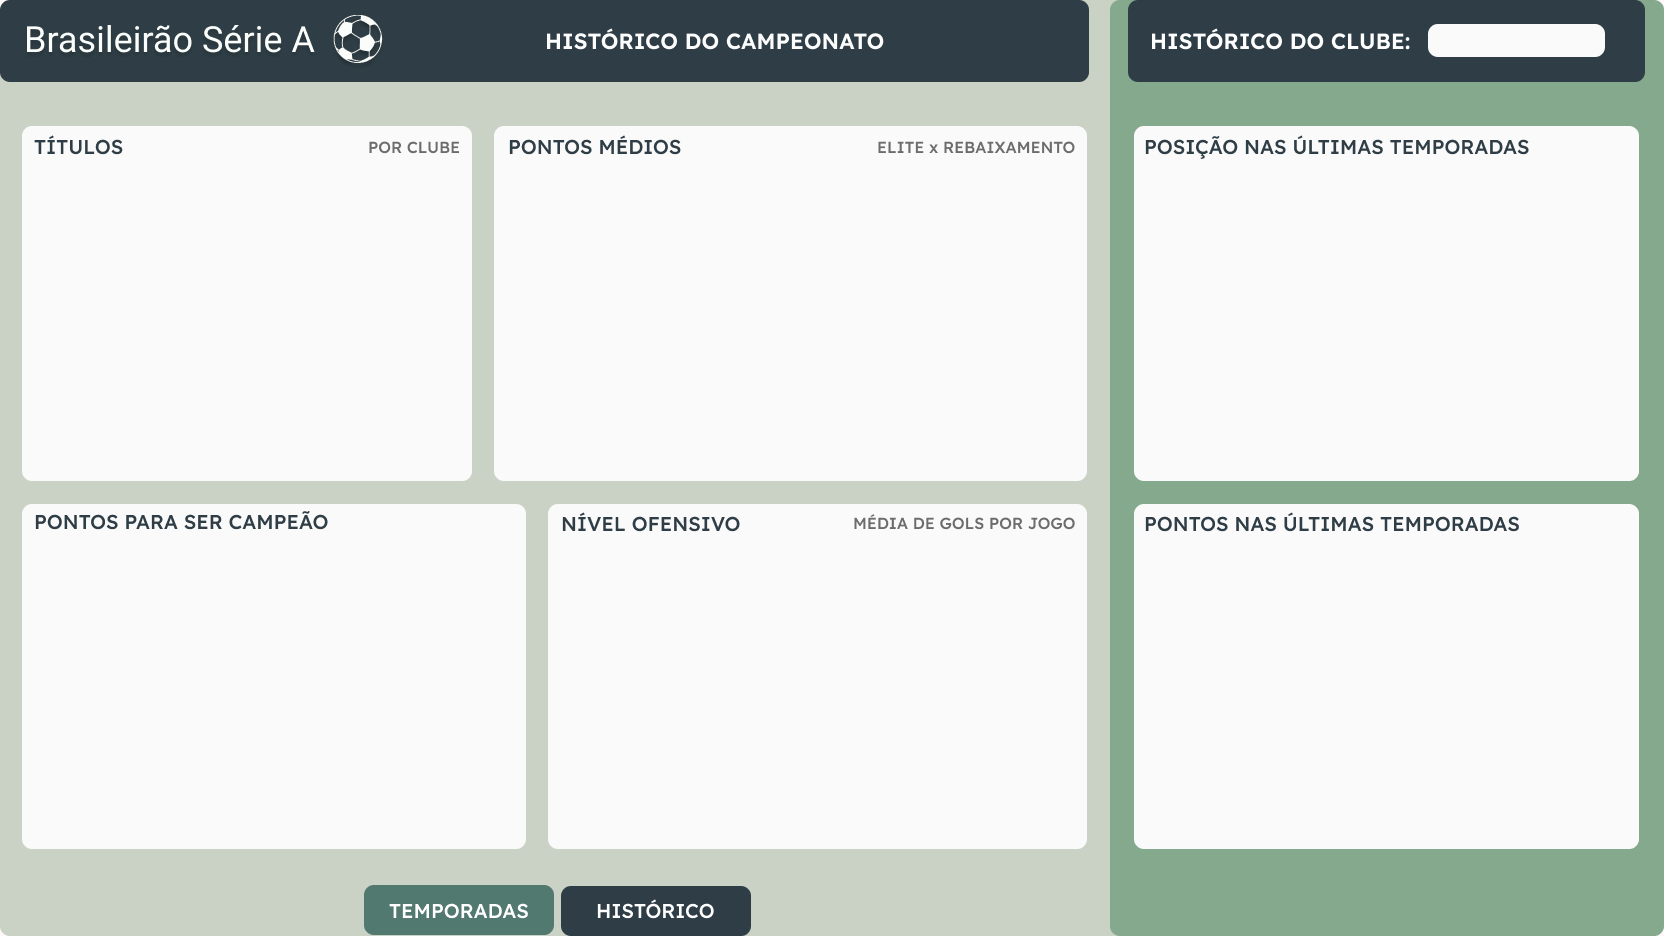

The page's visual inventory and layout, read from the dashboard file:
{"tool":"powerbi","page":{"name":"Histórico","canvas":[1280,720],"ordinal":1},"visuals":[{"type":"lineChart","title":"Pontos nas últimas Temporadas","fields":{"Category":["classificacao.Ano"],"Y":["classificacao.PontosSelecionado"]},"box":[879,415,364,241],"z":0},{"type":"slicer","fields":{"Values":["classificacao.Time"]},"box":[1087,8,159,70],"z":1000},{"type":"lineChart","title":"Posição nas últimas Temporadas","fields":{"Category":["classificacao.Ano"],"Y":["Sum(classificacao.Ranking)"]},"box":[879,142,364,234],"z":2000},{"type":"columnChart","title":"Pontos dos Últimos Campeões","fields":{"Y":["Sum(Campeoes.Pontos)"],"Series":["Campeoes.Time"],"Category":["Campeoes.Ano"]},"box":[30,429,355,215],"z":3000},{"type":"clusteredBarChart","title":"Nível Ofensivo: Média de Gols por Jogo","fields":{"Category":["classificacao.Ano"],"Y":["classificacao.MediaGolsPorJogo"]},"box":[426,429,405,214],"z":4000},{"type":"lineChart","title":"Pontos Médios: Elite vs Rebaixamento","fields":{"Category":["classificacao.Ano"],"Y":["classificacao.MediaPontosZ4","classificacao.MediaPontosTop4"]},"box":[385,128,438,248],"z":5000},{"type":"multiRowCard","title":"Títulos por Clube","fields":{"Values":["titulos.clube","titulos.quantidade"]},"box":[17,128,337,225],"z":6000},{"type":"actionButton","box":[5,20,50,49],"z":7000},{"type":"actionButton","box":[277,680,149,40],"z":7001}]}

Visuals, with their boxes in screenshot pixels (x1, y1, x2, y2), scaled from the page's 1280x720 canvas onto the 1664x936 screenshot:
"Pontos nas últimas Temporadas" lineChart: [1143, 540, 1616, 853]
slicer - classificacao.Time: [1413, 10, 1620, 101]
"Posição nas últimas Temporadas" lineChart: [1143, 185, 1616, 489]
"Pontos dos Últimos Campeões" columnChart: [39, 558, 500, 837]
"Nível Ofensivo: Média de Gols por Jogo" clusteredBarChart: [554, 558, 1080, 836]
"Pontos Médios: Elite vs Rebaixamento" lineChart: [500, 166, 1070, 489]
"Títulos por Clube" multiRowCard: [22, 166, 460, 459]
actionButton: [6, 26, 72, 90]
actionButton: [360, 884, 554, 935]
